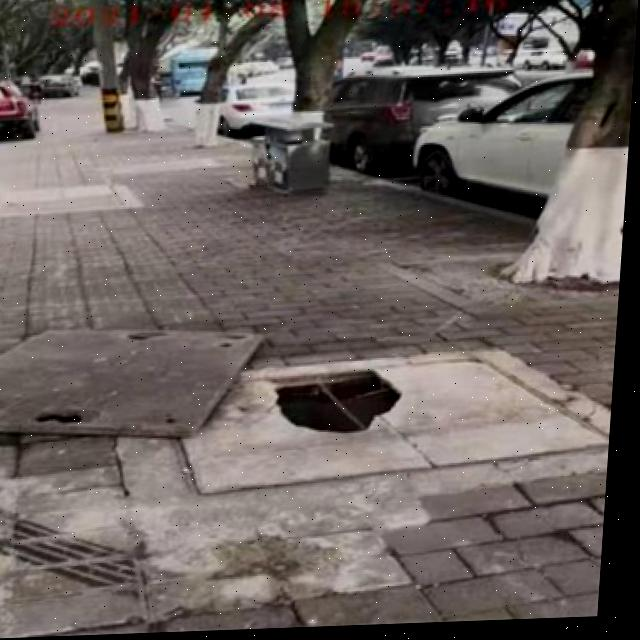manhole: (246, 356, 443, 452)
